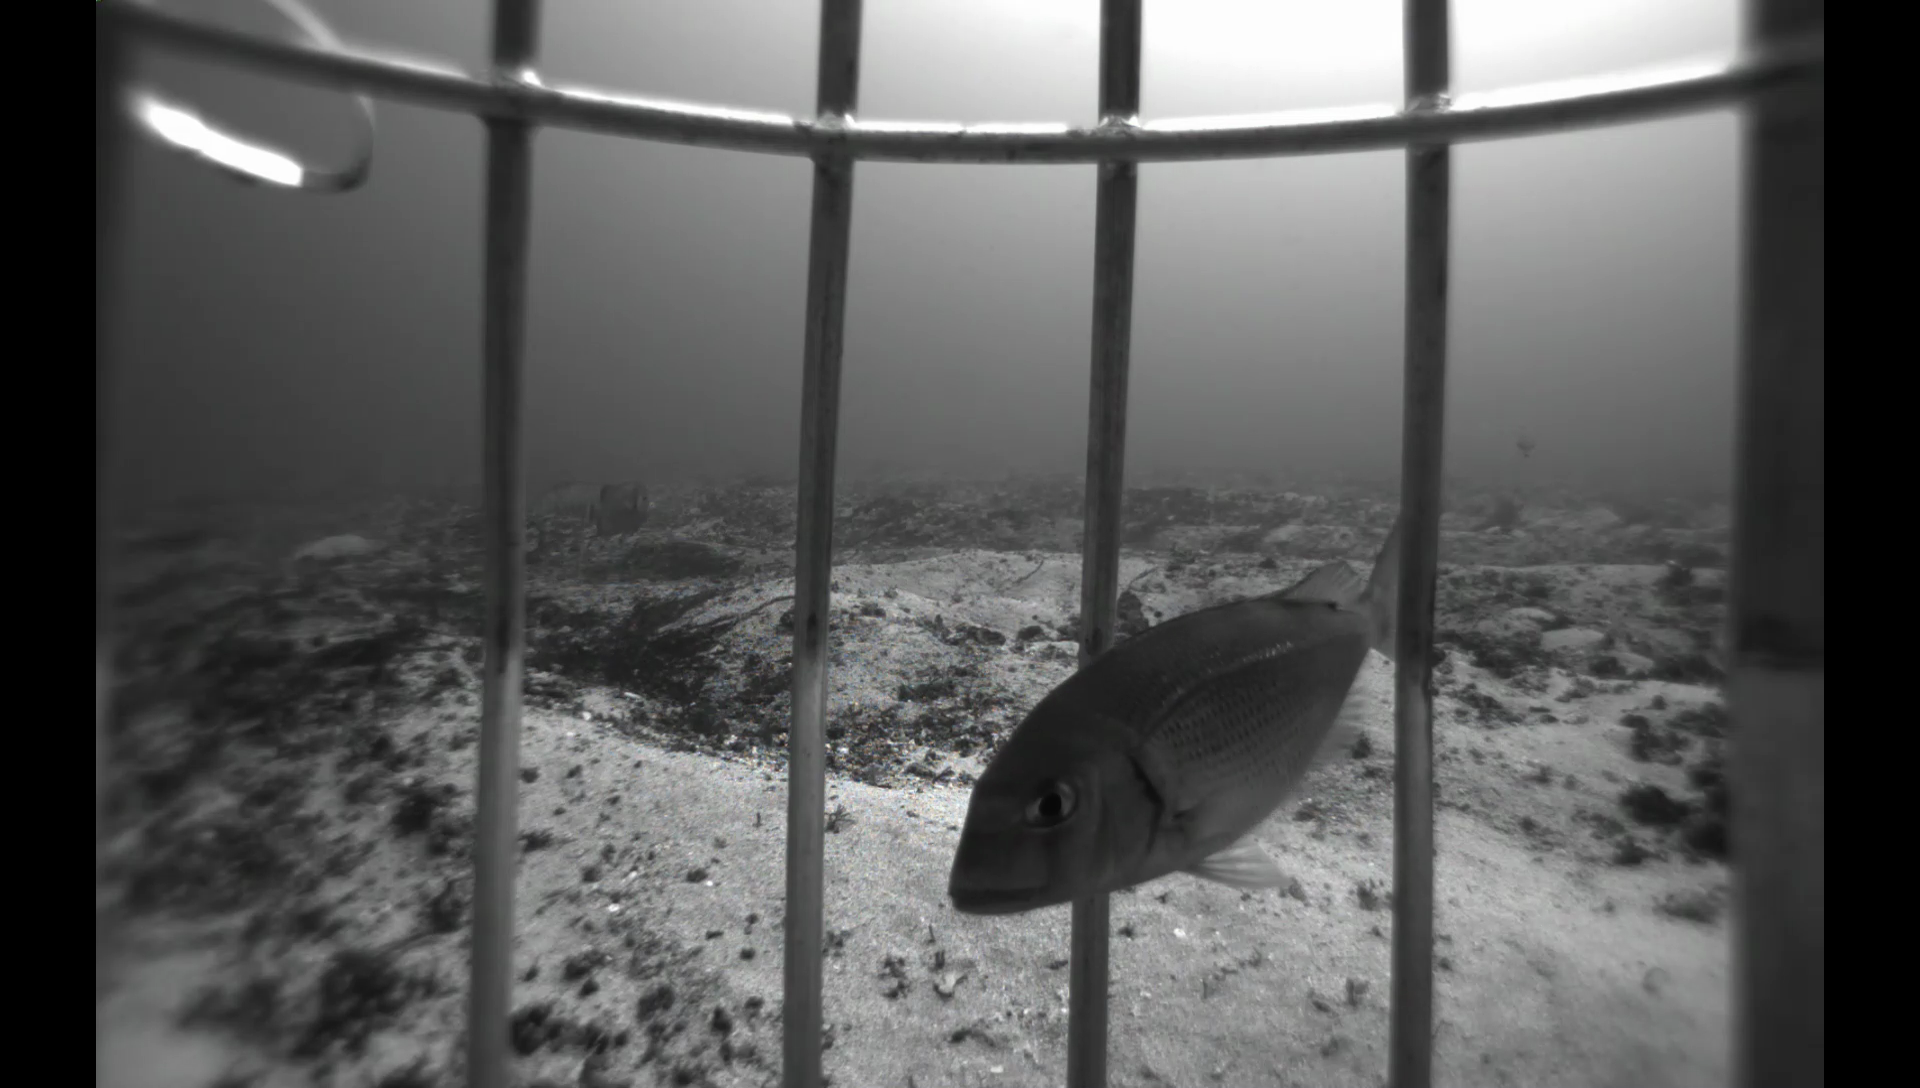MALACANTHUSPLUMIERI-170070301: (1509, 426, 1545, 466)
PAGRUSPAGRUS-170212302: (932, 506, 1403, 938)
POMACANTHUSARCUATUS-170290201: (574, 473, 662, 543)
